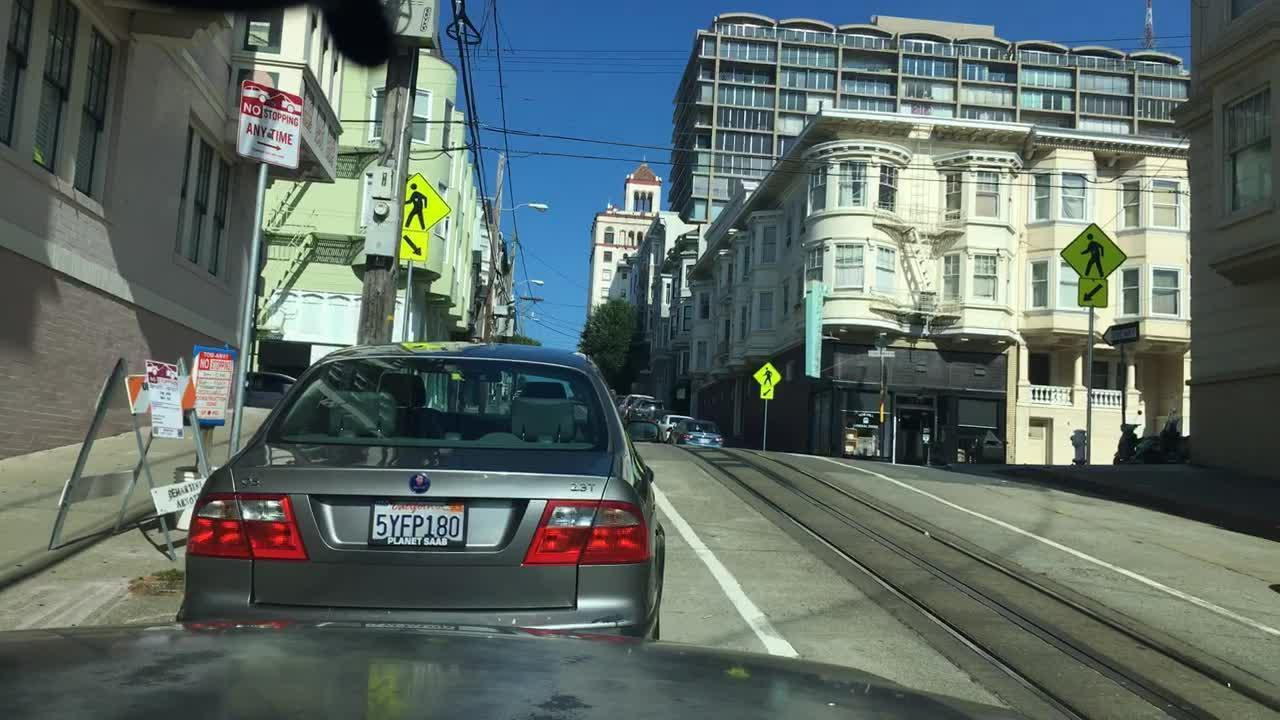no class: (408, 472, 432, 495)
